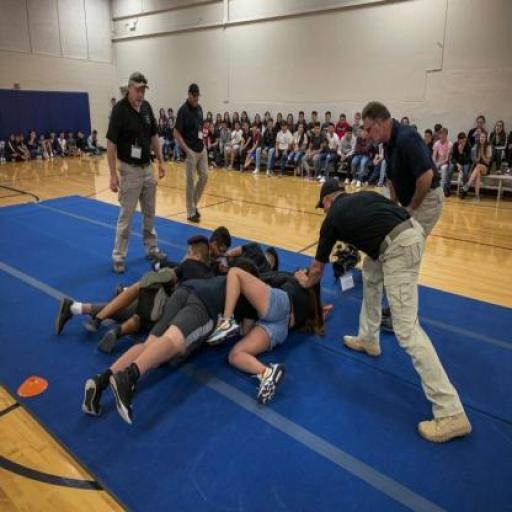Fighting: (56, 224, 327, 425)
